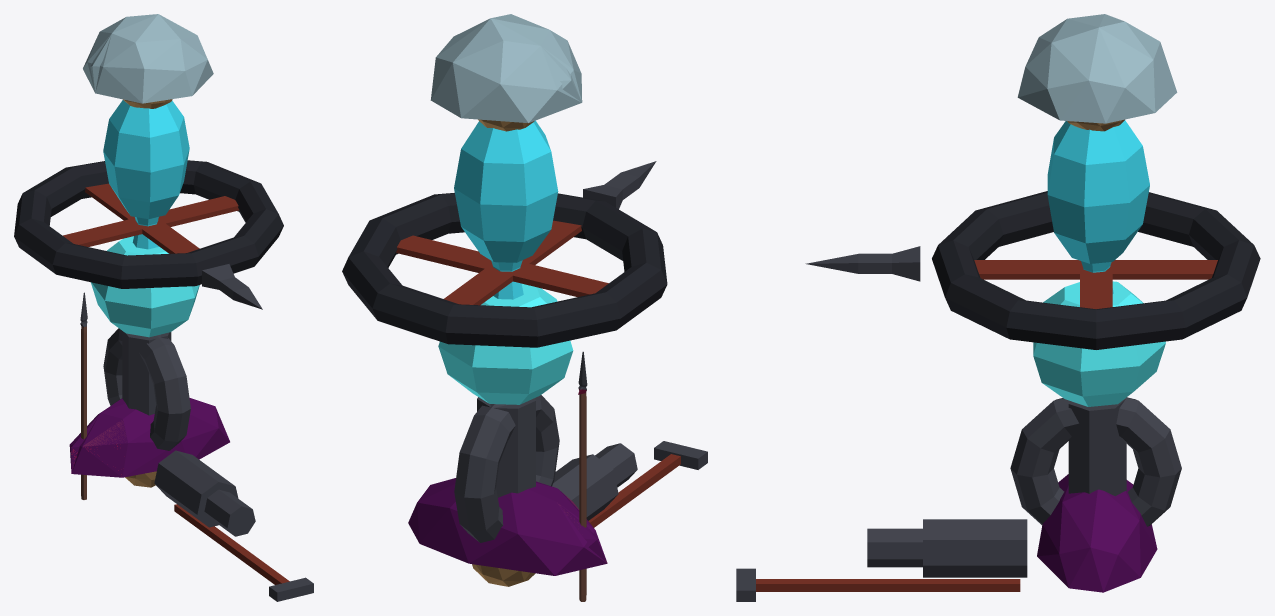
Rendered from EnemyStufffbx.fbx.
The picture shows the model from 3 angles, left to right: view 1: azimuth 30°, elevation 25°; view 2: azimuth 150°, elevation 25°; view 3: azimuth 270°, elevation 25°; orthographic projection. The views are drawn at different scales.
Parts seen in each view (by area): view 1: Boss, StaticEnemy1, Weapon, SpinningWeapon, StaticEnemy.001, Knife, Spear; view 2: Boss, StaticEnemy1, Weapon, StaticEnemy.001, SpinningWeapon, Spear, Knife; view 3: Boss, StaticEnemy1, Weapon, SpinningWeapon, StaticEnemy.001, Knife.
Part boxes in pixels (bbox=[...]): Boss: bbox=[14, 14, 283, 450]; StaticEnemy1: bbox=[69, 331, 229, 487]; Weapon: bbox=[154, 450, 255, 536]; SpinningWeapon: bbox=[174, 504, 313, 601]; StaticEnemy.001: bbox=[71, 398, 229, 486]; Knife: bbox=[202, 264, 262, 309]; Spear: bbox=[80, 292, 87, 499]; Boss: bbox=[342, 14, 667, 542]; StaticEnemy1: bbox=[408, 397, 606, 586]; Weapon: bbox=[552, 443, 637, 520]; StaticEnemy.001: bbox=[417, 481, 607, 571]; SpinningWeapon: bbox=[588, 441, 707, 527]; Spear: bbox=[578, 351, 587, 601]; Knife: bbox=[583, 161, 656, 209]; Boss: bbox=[932, 14, 1260, 526]; StaticEnemy1: bbox=[1037, 399, 1157, 592]; Weapon: bbox=[867, 519, 1027, 577]; SpinningWeapon: bbox=[736, 568, 1020, 601]; StaticEnemy.001: bbox=[1058, 474, 1154, 577]; Knife: bbox=[805, 246, 920, 281].
Size of the model in its own units: 2.39 by 4.63 by 3.85.
